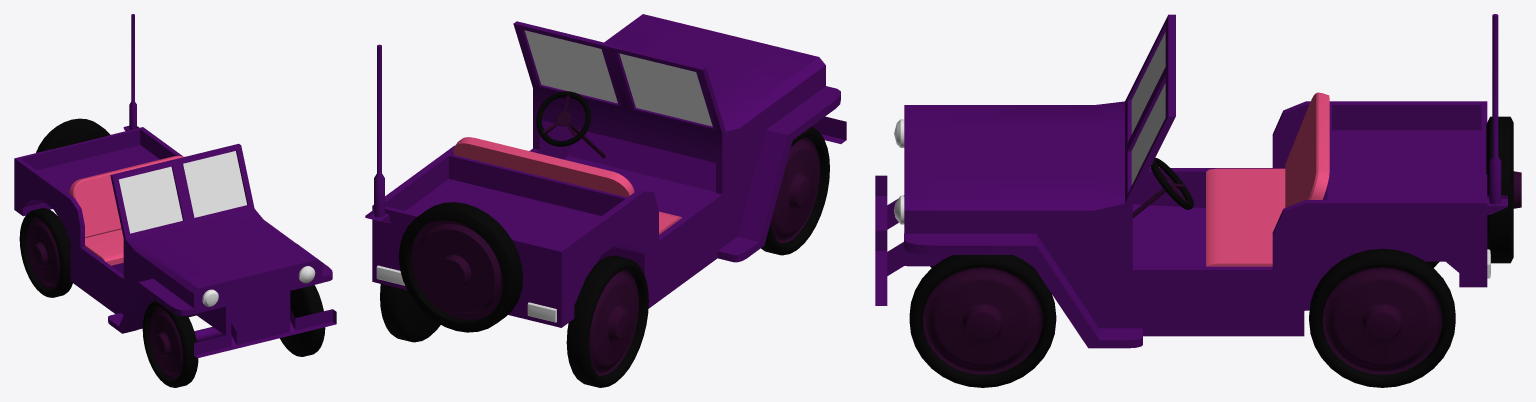
The model's file is Jeep  Enemy2.fbx.
3 renders of one model, left to right at view 1: azimuth 30°, elevation 25°; view 2: azimuth 150°, elevation 25°; view 3: azimuth 270°, elevation 25°, orthographic. The views are drawn at different scales.
Visible parts, largest first — view 1: Base, BackWheels, FrontWheel.R, FrontWheel.L; view 2: Base, BackWheels, FrontWheel.R, Steering Wheel; view 3: Base, BackWheels, FrontWheel.L, Steering Wheel.
Boxes of the visible parts, x1,y1,x2,y2 form: Base: (14,14,336,357); BackWheels: (19,208,72,297); FrontWheel.R: (142,300,198,387); FrontWheel.L: (280,285,325,356); Base: (365,14,846,332); BackWheels: (380,255,648,387); FrontWheel.R: (761,126,829,255); Steering Wheel: (536,91,605,158); Base: (875,14,1521,348); BackWheels: (1309,248,1455,387); FrontWheel.L: (909,255,1056,387); Steering Wheel: (1132,158,1193,218).
Size of the model in its own units: 405 by 548 by 881.
